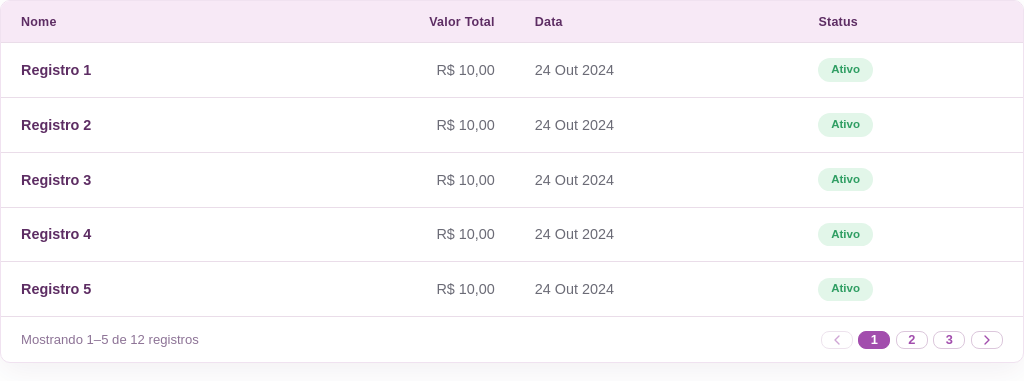
Test: TabelaComponent › respeita o tamanho de página configurado
Expected: the number of rows with class "tabela__linha" is 5, x1=1 y1=43 x2=1023 y2=98; x1=1 y1=98 x2=1023 y2=152; x1=1 y1=152 x2=1023 y2=207; x1=1 y1=207 x2=1023 y2=262; x1=1 y1=262 x2=1023 y2=316
Click the button "3" at (949, 340), box x1=933 y1=331 x2=965 y2=349
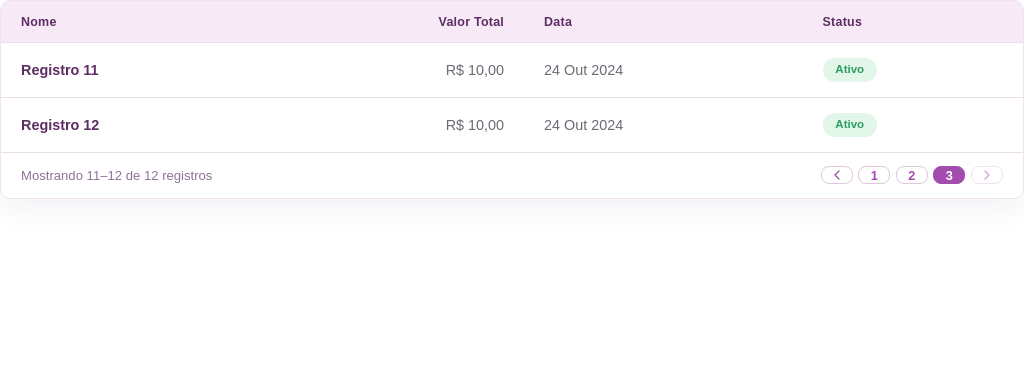
Expected: the number of rows with class "tabela__linha" is 2, x1=1 y1=43 x2=1023 y2=98; x1=1 y1=98 x2=1023 y2=152
Expected: the text with class "tabela__resumo" reads "Mostrando 11–12 de 12 registros", x1=21 y1=168 x2=212 y2=183
